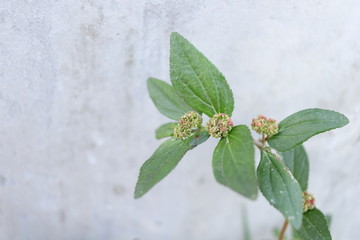snakeweed: (136, 40, 304, 215)
